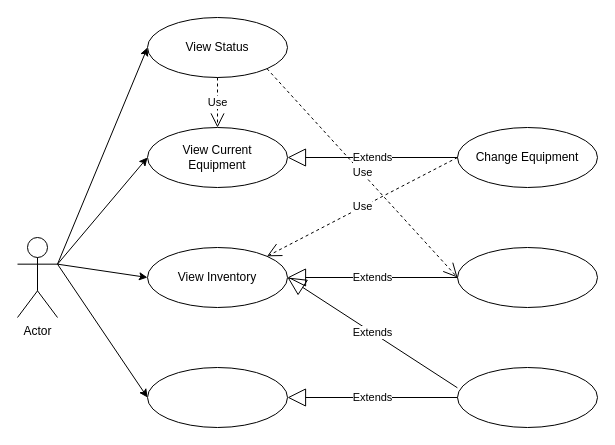
Image size: 615x445. Some labels were removed from this diagram. Each missing label, with the box of its shape:
Buy/Sell Items: (456, 366, 598, 428)
Use Item: (456, 246, 598, 308)
View Shop: (146, 366, 288, 428)
